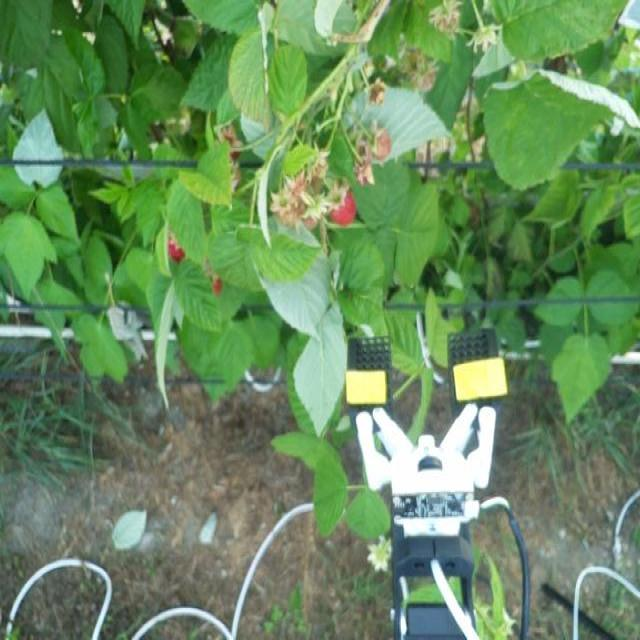Riped berries: (321, 180, 358, 227), (164, 228, 189, 262)
